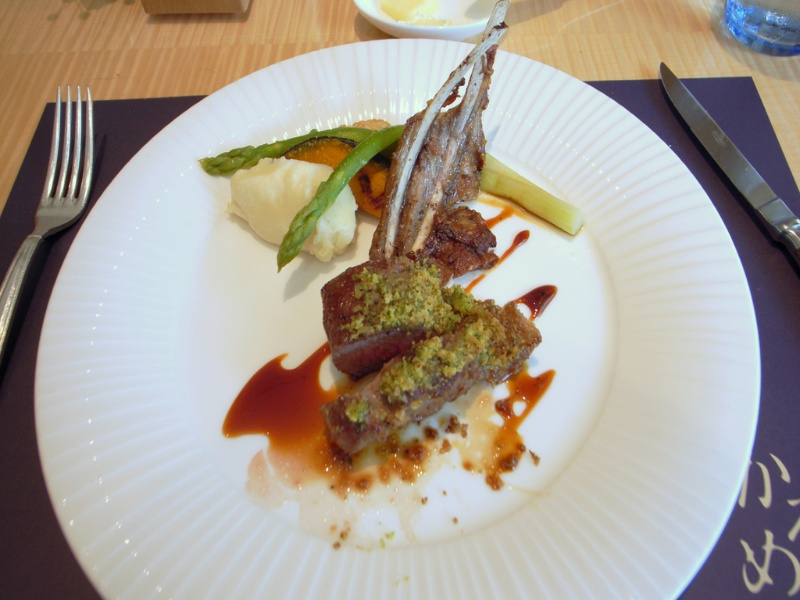knife: (657, 57, 800, 259)
